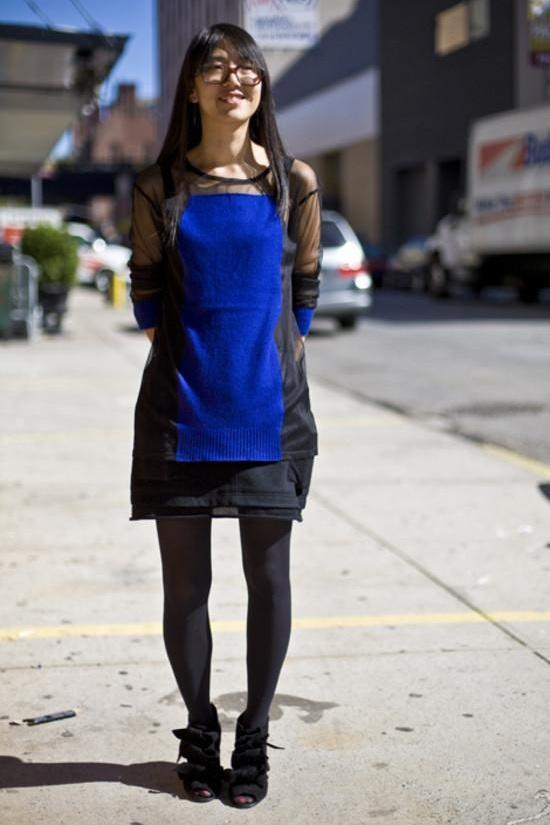dress: (129, 156, 316, 527)
